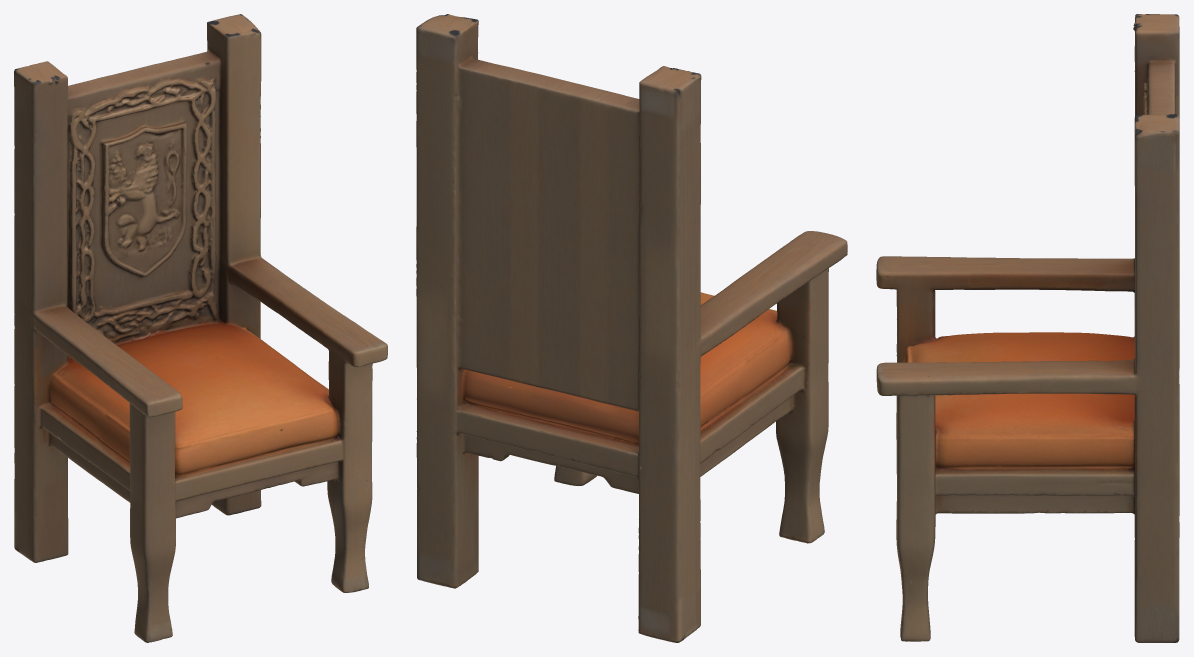
File: Silla.glb
3 renders of one model, left to right at view 1: azimuth 30°, elevation 25°; view 2: azimuth 150°, elevation 25°; view 3: azimuth 270°, elevation 25°, orthographic. The views are drawn at different scales.
Size of the model in its own units: 1.06 by 2 by 1.07.
1 material, 1 textured.
